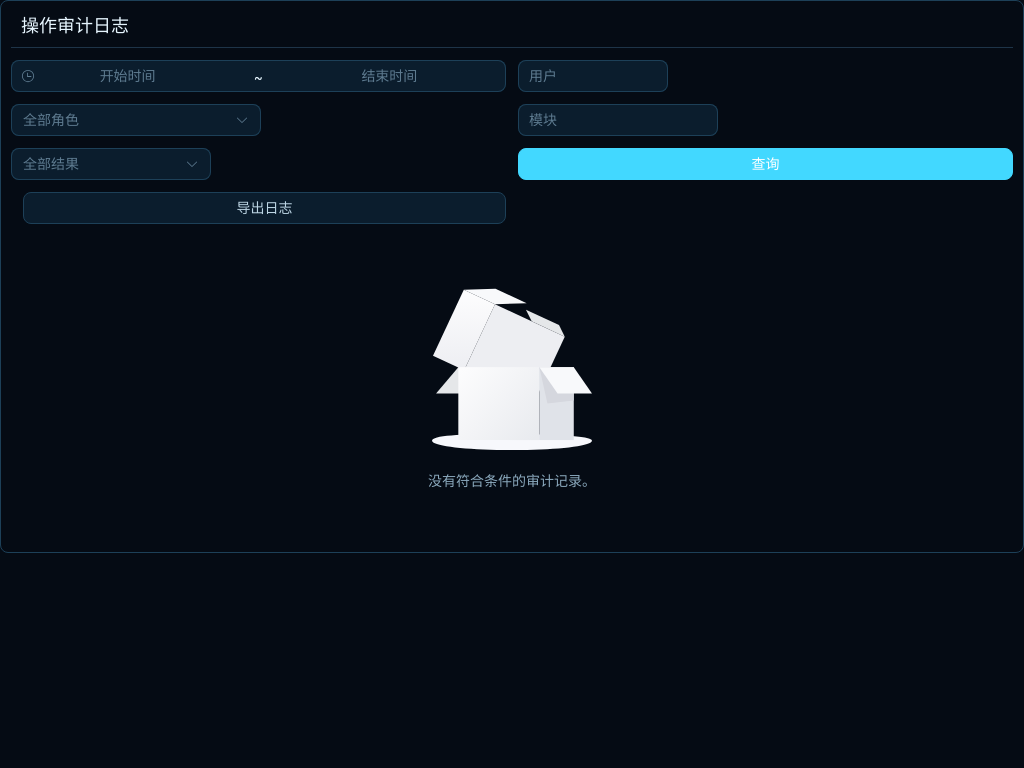
Test: AuditLog › renders EMPTY and ERROR without retaining invalid records
The image size is (1024, 768).
Check: the element with test id "audit-empty" shows "没有符合条件的审计记录", box [428,472,596,489]
Click the button "查询" at (766, 164), box [518,148,1013,180]
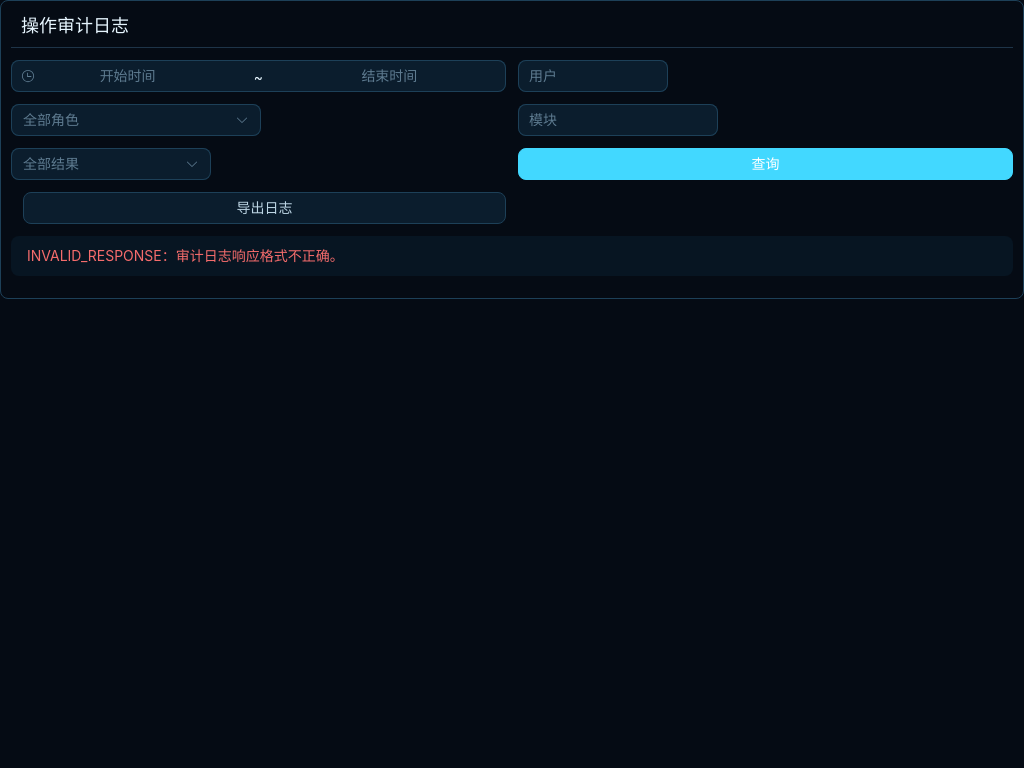
Check: the element with test id "audit-error" shows "INVALID_RESPONSE", box [27,247,344,264]
